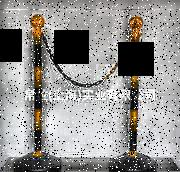bench: (109, 14, 159, 169), (24, 12, 56, 168)
